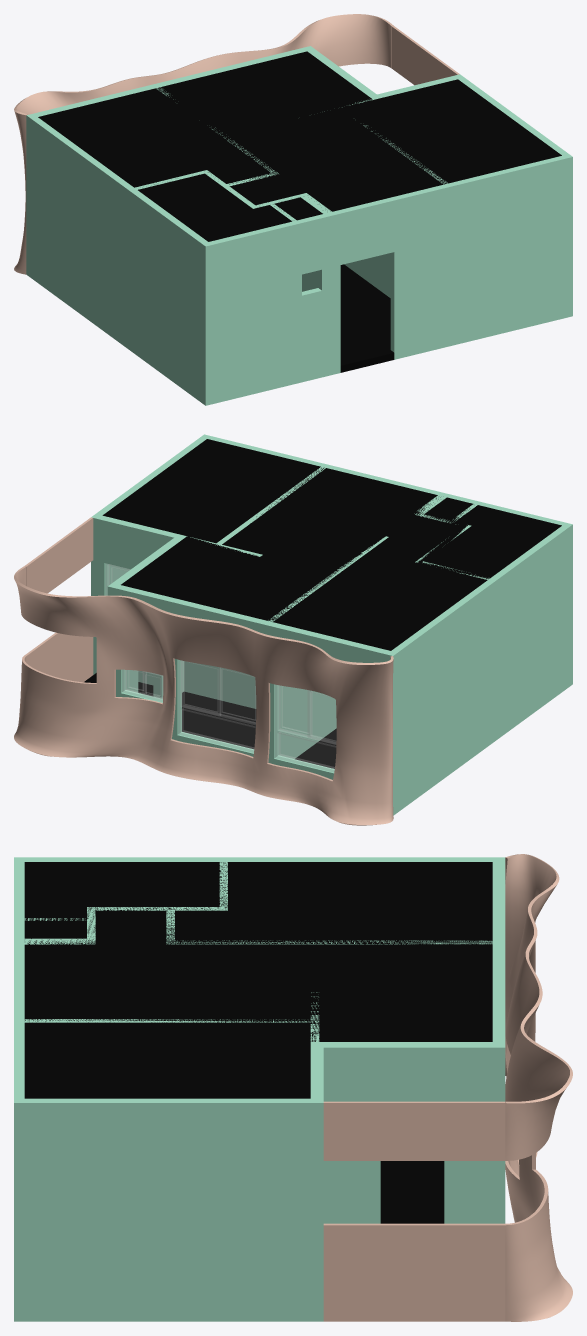
Rendered from twoBR-2-surface.gltf.
The picture shows the model from 3 angles, top to bottom: view 1: azimuth 30°, elevation 25°; view 2: azimuth 150°, elevation 25°; view 3: azimuth 270°, elevation 25°; orthographic projection. The views are drawn at different scales.
Size of the model in its own units: 8.32 by 3.46 by 7.88.
